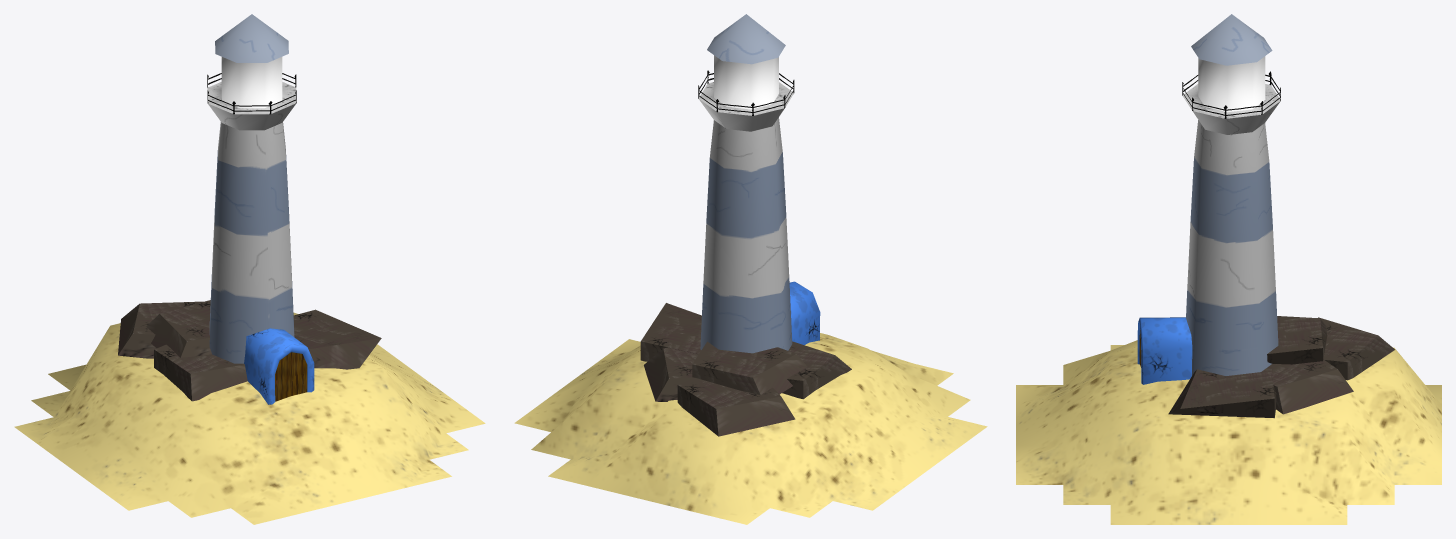
The model's file is JoãoPedroBaião_882555 (2).fbx_Farol.fbx.
3 renders of one model, left to right at view 1: azimuth 30°, elevation 25°; view 2: azimuth 150°, elevation 25°; view 3: azimuth 270°, elevation 25°, orthographic. The views are drawn at different scales.
Visible parts, largest first — view 1: Farol; view 2: Farol; view 3: Farol.
Boxes of the visible parts, bbox=[...] form: Farol: bbox=[14, 14, 485, 524]; Farol: bbox=[514, 14, 987, 524]; Farol: bbox=[1016, 14, 1441, 524].
Size of the model in its own units: 854 by 935 by 854.
